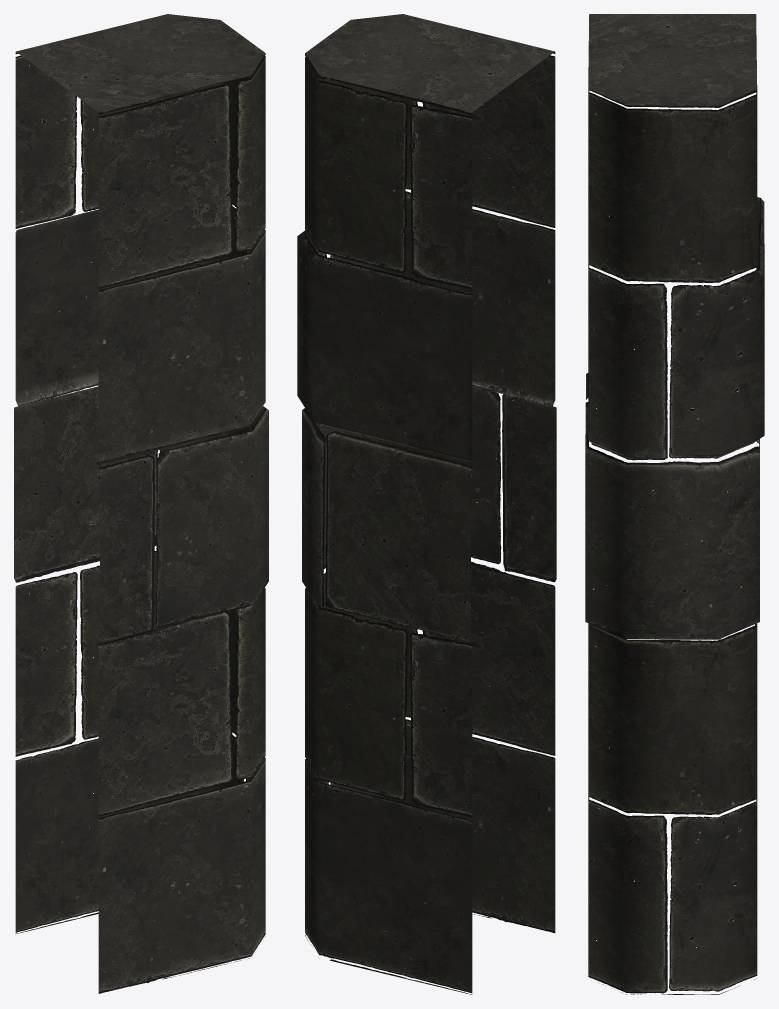
3 views of the same model, side by side, from view 1: azimuth 30°, elevation 25°; view 2: azimuth 150°, elevation 25°; view 3: azimuth 270°, elevation 25° (orthographic).
Visible parts, largest first — view 1: SM_Dowdun_Buttress_A_02_LOD0; view 2: SM_Dowdun_Buttress_A_02_LOD0; view 3: SM_Dowdun_Buttress_A_02_LOD0.
Part boxes in pixels (bbox=[...]): SM_Dowdun_Buttress_A_02_LOD0: bbox=[14, 14, 268, 993]; SM_Dowdun_Buttress_A_02_LOD0: bbox=[297, 14, 556, 994]; SM_Dowdun_Buttress_A_02_LOD0: bbox=[585, 14, 764, 994].
Size of the model in its own units: 1.49 by 6.5 by 1.19.
Materials: 1 (1 with a texture image).
